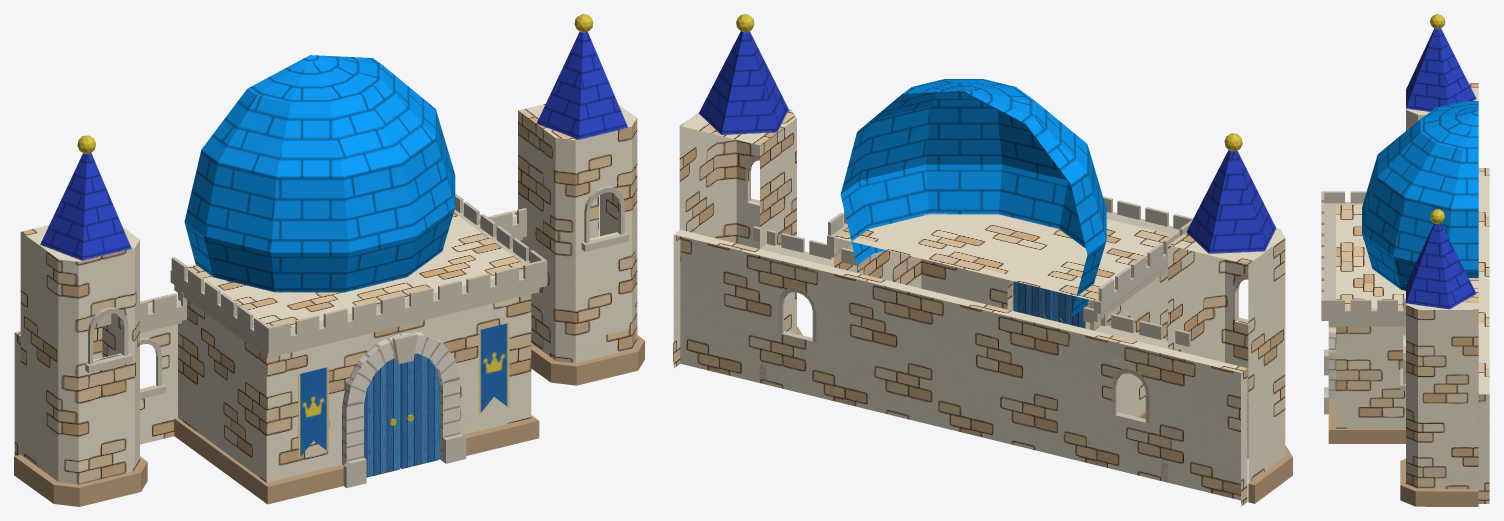
File: castle.glb
The picture shows the model from 3 angles, left to right: view 1: azimuth 30°, elevation 25°; view 2: azimuth 150°, elevation 25°; view 3: azimuth 270°, elevation 25°; orthographic projection. The views are drawn at different scales.
Visible parts, largest first — view 1: baked2, baked_door_r, baked_door_l; view 2: baked2, baked_door_r, baked_door_l; view 3: baked2.
Part boxes in pixels (<box>): baked2: <box>14,14,644,506</box>; baked_door_r: <box>400,353,440,468</box>; baked_door_l: <box>364,358,400,477</box>; baked2: <box>673,14,1292,506</box>; baked_door_r: <box>1013,281,1052,320</box>; baked_door_l: <box>1052,291,1085,328</box>; baked2: <box>1321,14,1489,506</box>.
Bounding box in the file's own units: 4.55 × 2.56 × 1.39.
Materials: 3 (3 with a texture image).
